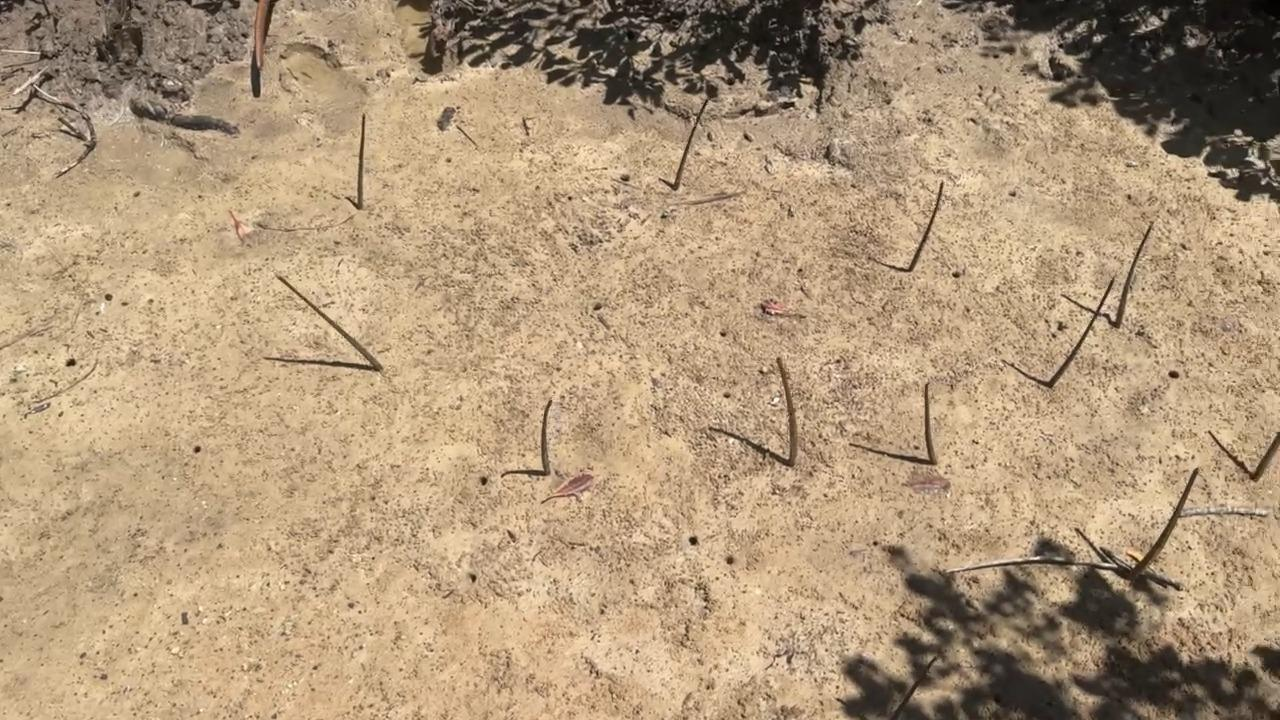Tree: (277, 275, 384, 373), (1047, 279, 1114, 388), (1133, 467, 1201, 572), (1115, 225, 1154, 327), (672, 100, 709, 191), (908, 184, 943, 273), (777, 356, 797, 468), (538, 399, 555, 476), (1253, 436, 1280, 480), (924, 381, 937, 466), (355, 114, 365, 209)
